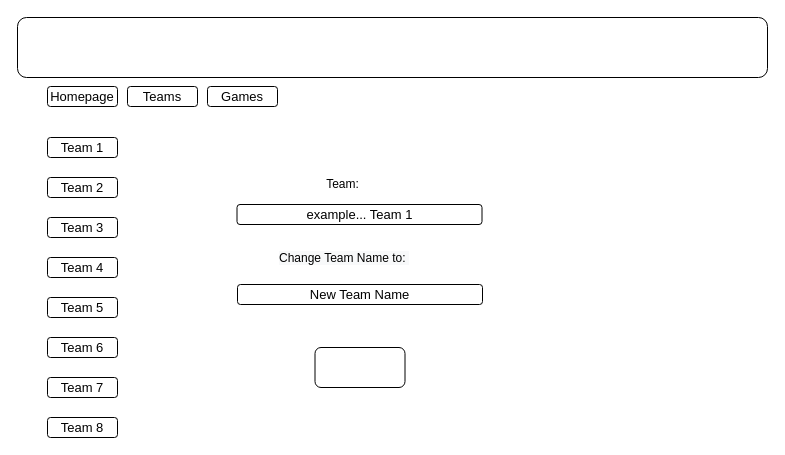
Some shapes in this 785 by 455 pixel diagram are drawn without their labels. The shapes that lost their labels are listed below. From the top down, each one's centre as x and y in pixels, then its label:
the point at 392,47: Lawn Game Olympics App
the point at 359,367: Submit
